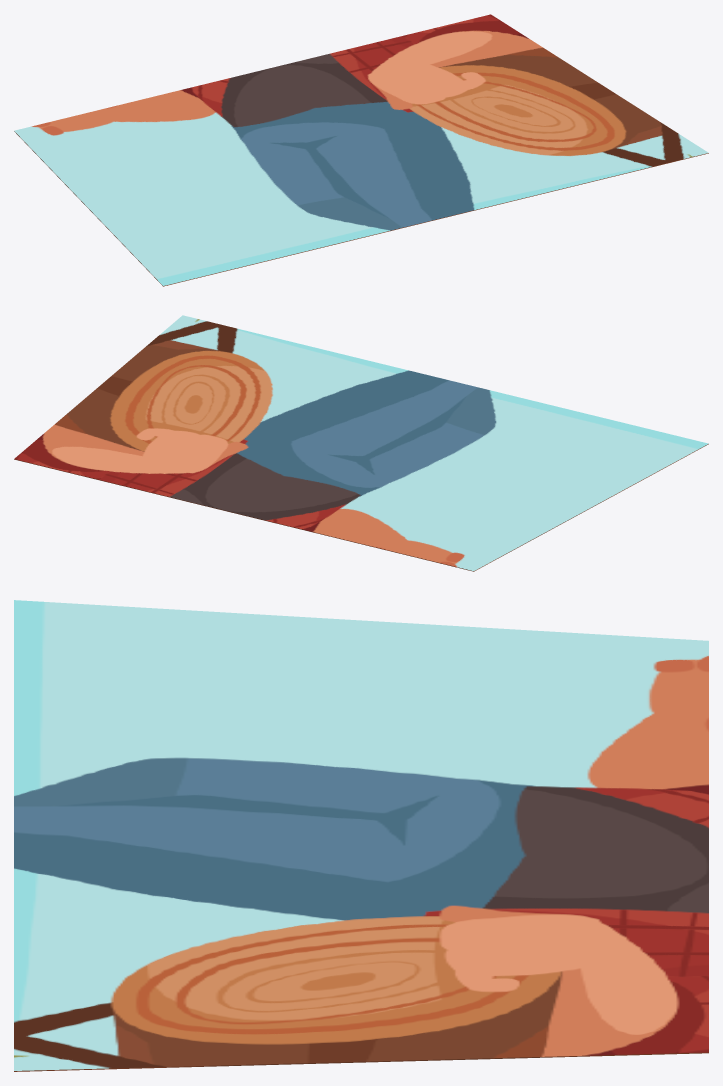
The model's file is Level 82 roll sushi.fbx.
3 renders of one model, top to bottom at view 1: azimuth 30°, elevation 25°; view 2: azimuth 150°, elevation 25°; view 3: azimuth 270°, elevation 25°, orthographic. The views are drawn at different scales.
Parts seen in each view (by area): view 1: Blend; view 2: Blend; view 3: Blend.
Part boxes in pixels (x1,y1,x2,y2): Blend: (14, 14, 708, 286); Blend: (14, 315, 708, 571); Blend: (14, 600, 708, 1071).
Size of what is drawn, in the model's own units: 1145 by 1 by 714.
